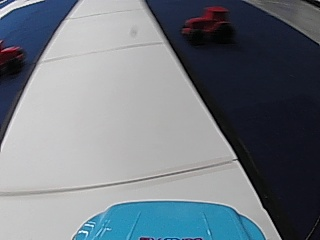tractor: (181, 4, 232, 46), (0, 42, 24, 76)
